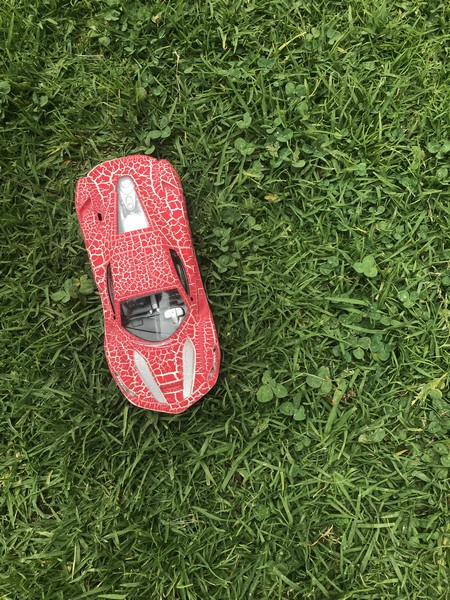RC: (74, 154, 221, 416)
